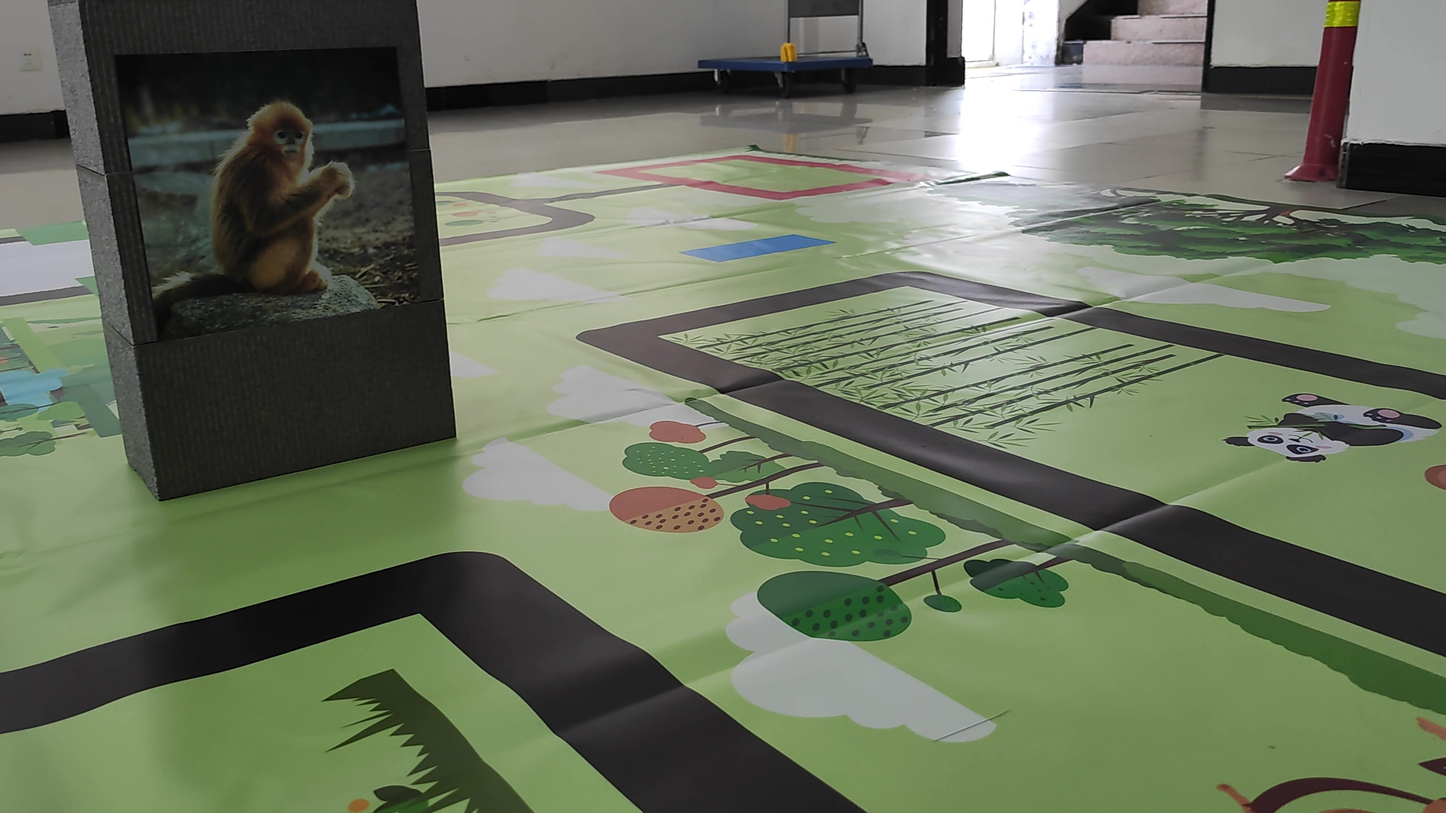monkey: (134, 80, 381, 340)
